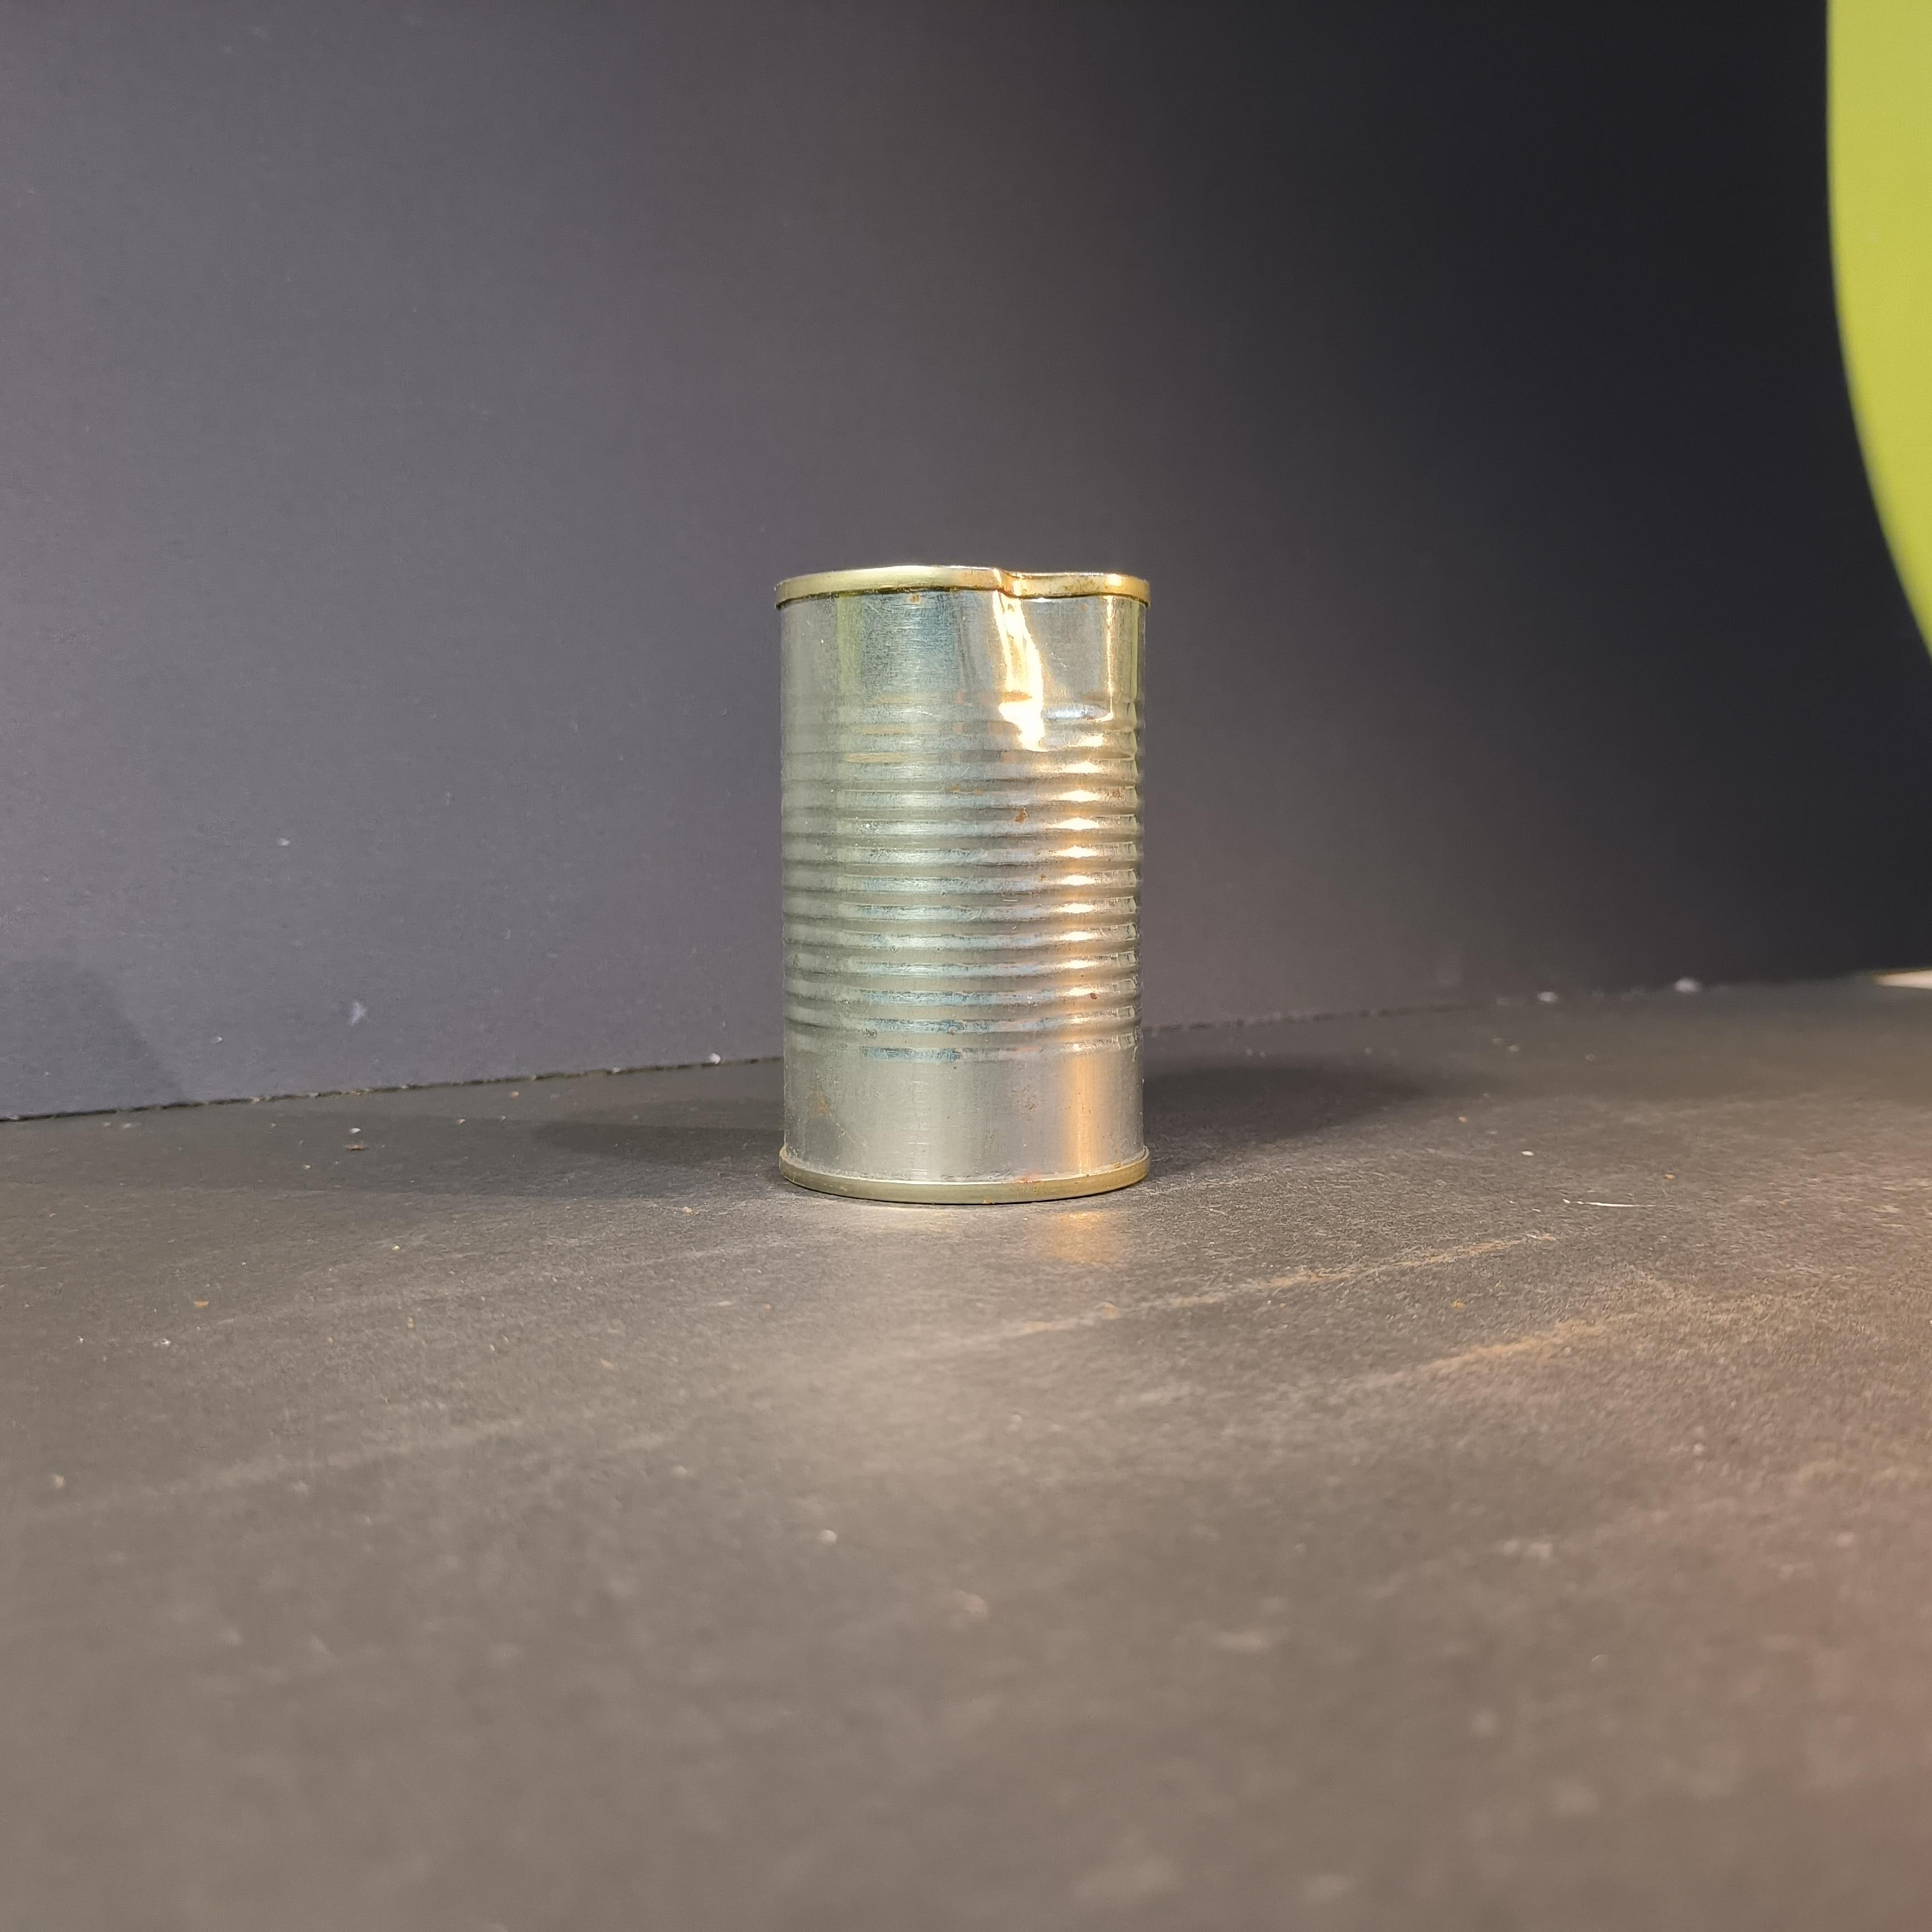Dented: (732, 557, 1187, 1205)
